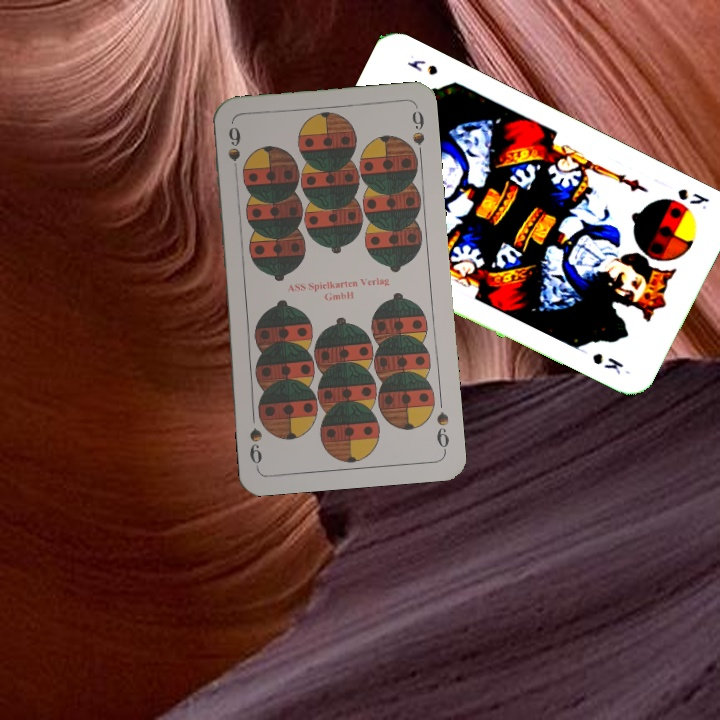S9: (224, 122, 243, 181), (432, 407, 452, 454)
SK: (673, 184, 713, 212)
